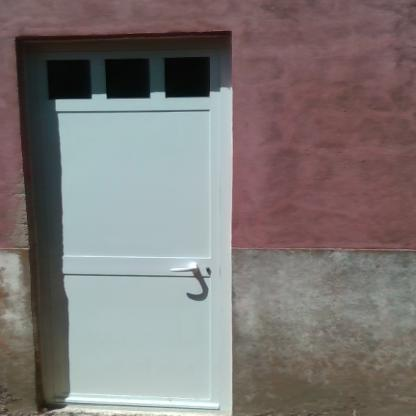door: (30, 49, 220, 408)
lever: (170, 265, 198, 274)
